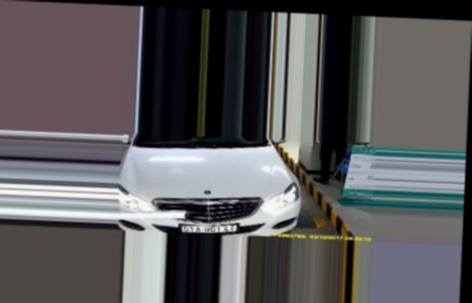License_Plate: (178, 220, 241, 236)
